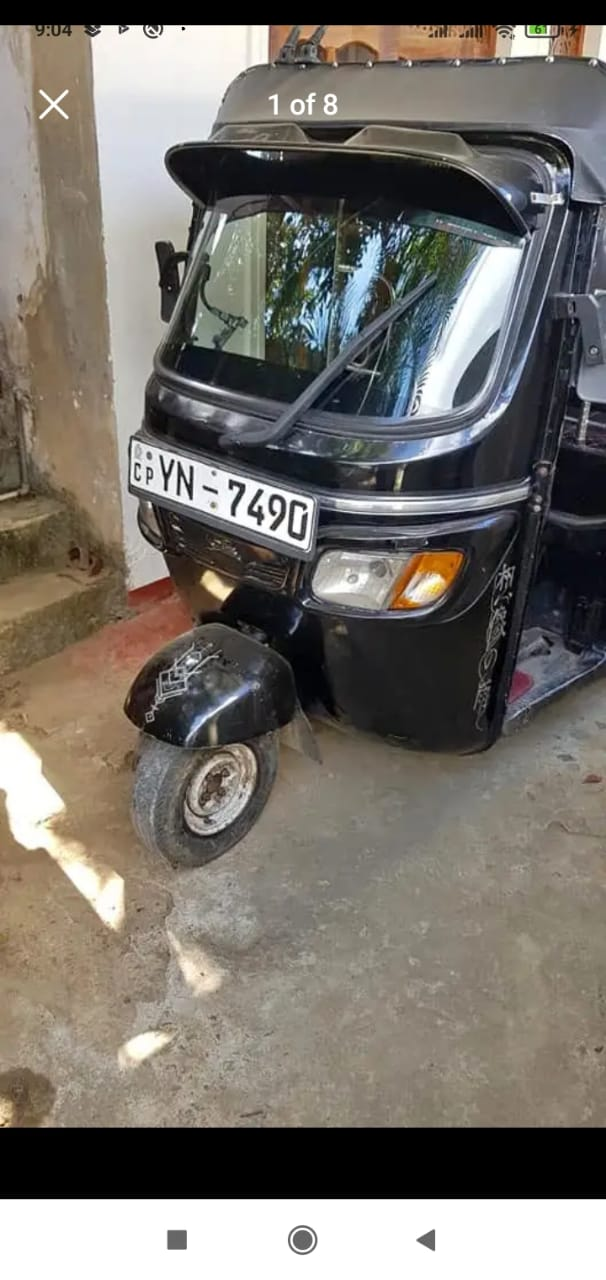number_plate: (118, 430, 322, 560)
